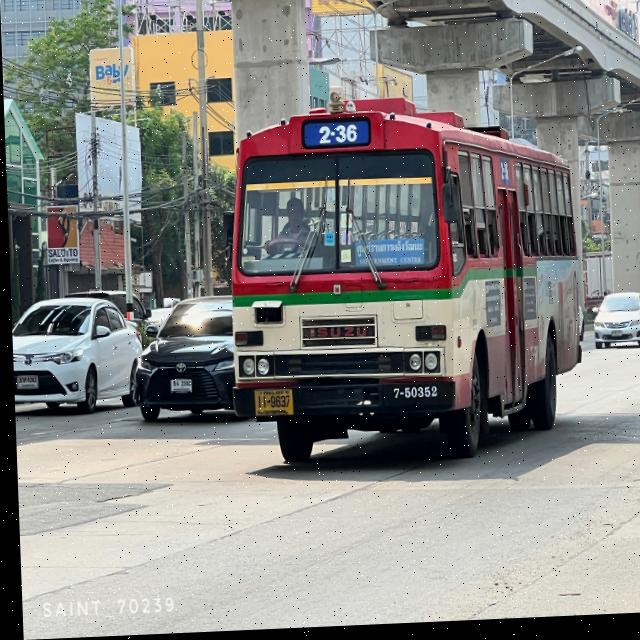BMTA-bus: (215, 86, 589, 475)
Bus Line Number: (297, 118, 370, 153)
Bus Side Number: (389, 386, 441, 407)
Destination Sign: (351, 244, 426, 275)
